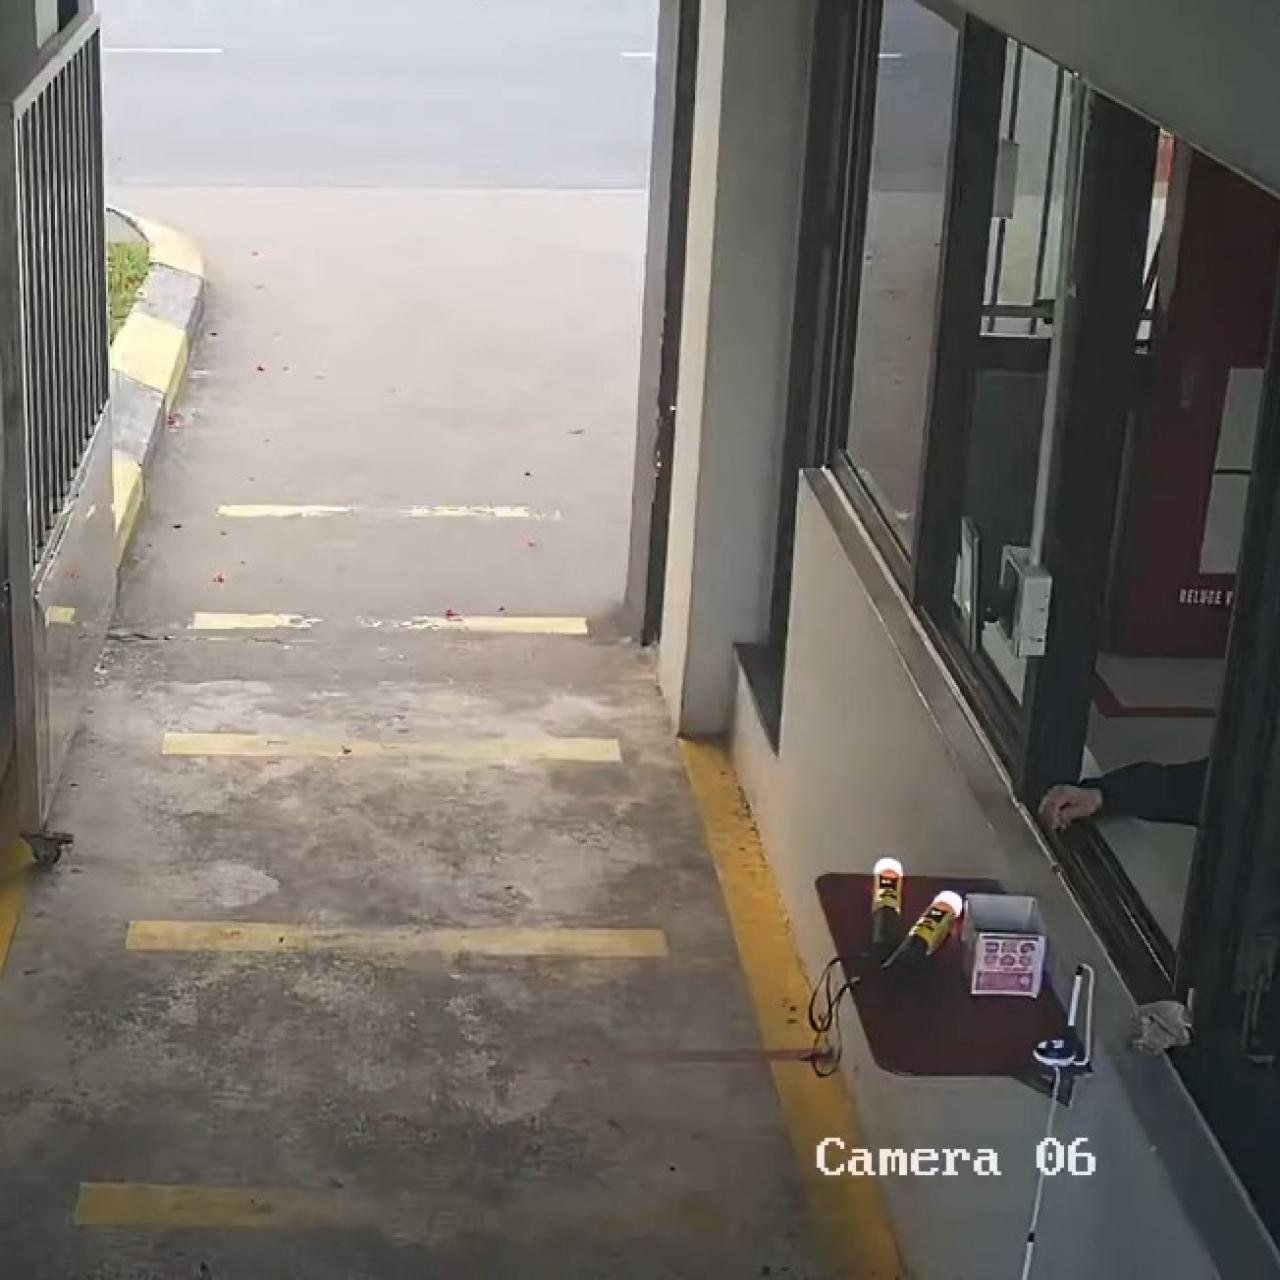breathalyzer: (881, 881, 972, 995), (871, 847, 907, 956)
